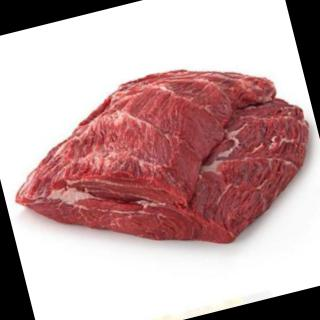Daging Sapi: (1, 41, 320, 288)
